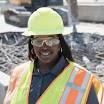hard hat: (21, 6, 70, 36)
high-vis: (4, 58, 101, 104)
